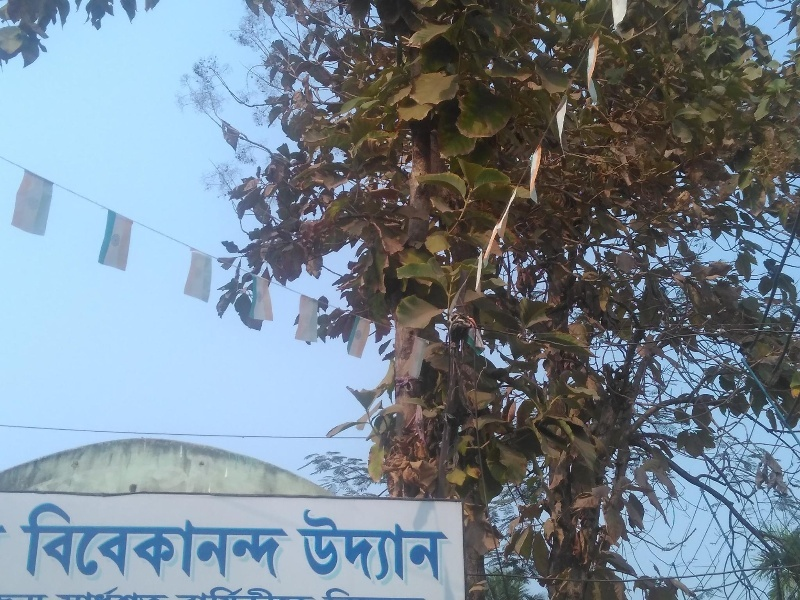text: (33, 500, 48, 581), (49, 500, 64, 581), (65, 500, 80, 581), (81, 500, 96, 581), (97, 500, 112, 581), (113, 500, 128, 581), (129, 500, 144, 581), (145, 500, 160, 581), (161, 500, 176, 581), (177, 500, 192, 581), (193, 500, 208, 581), (209, 500, 224, 581), (225, 500, 240, 581), (241, 500, 256, 581), (257, 500, 272, 581), (273, 500, 288, 581), (305, 509, 320, 581), (321, 509, 336, 581), (337, 509, 352, 581), (353, 509, 368, 581), (369, 509, 384, 581), (385, 509, 400, 581), (401, 509, 416, 581), (417, 509, 432, 581), (433, 509, 448, 581), (23, 500, 32, 581), (296, 509, 304, 581), (289, 500, 292, 581), (1, 588, 16, 599), (17, 588, 32, 599), (33, 588, 48, 599), (49, 588, 64, 599), (65, 588, 80, 599), (81, 588, 96, 599), (97, 588, 112, 599), (113, 588, 128, 599), (129, 588, 144, 599), (145, 588, 160, 599), (161, 588, 176, 599), (177, 588, 192, 599), (193, 588, 208, 599), (209, 588, 224, 599), (225, 588, 240, 599), (241, 588, 256, 599), (257, 588, 272, 599), (273, 588, 288, 599), (289, 588, 304, 599), (305, 588, 320, 599), (321, 588, 336, 599), (337, 588, 352, 599), (353, 588, 368, 599), (369, 588, 384, 599), (385, 588, 400, 599), (401, 588, 416, 599), (417, 588, 432, 599), (449, 509, 451, 581), (433, 588, 437, 599)
